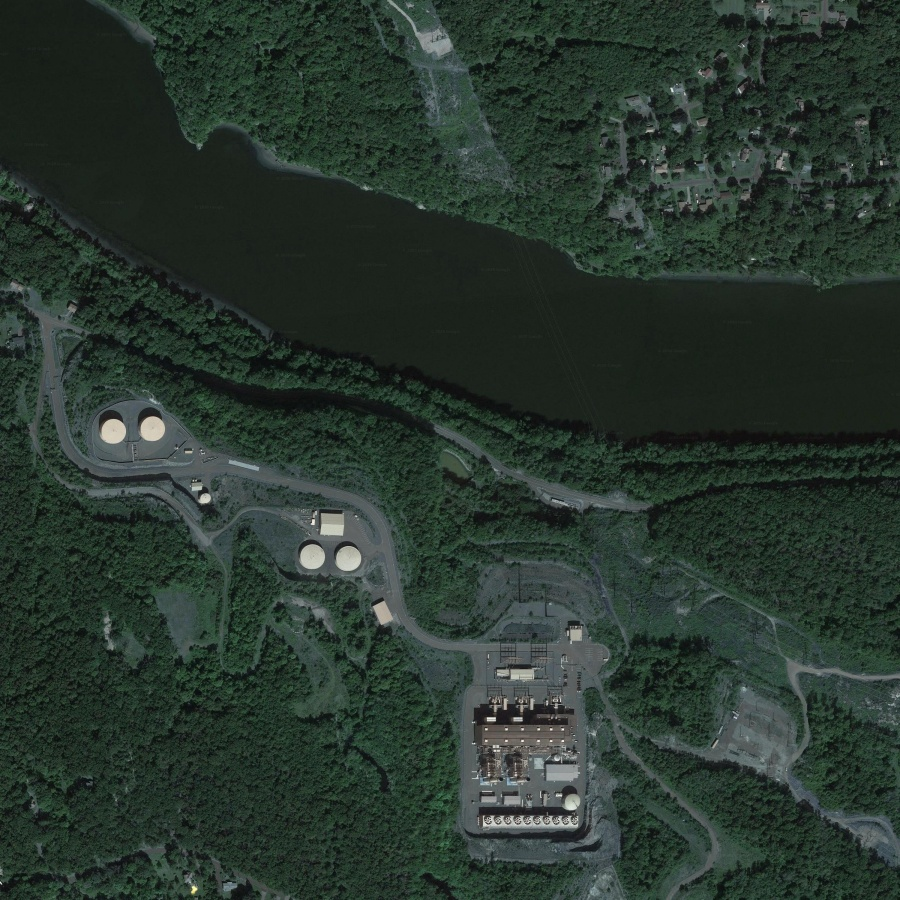PowerPlant: (465, 605, 611, 845)
